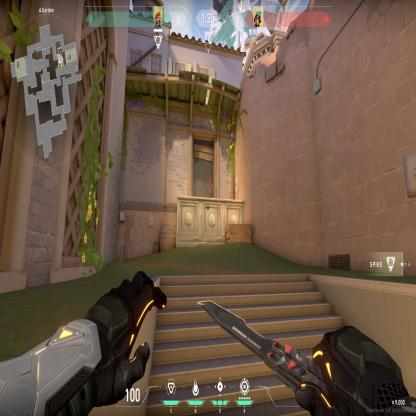enemy: (206, 178, 213, 199)
